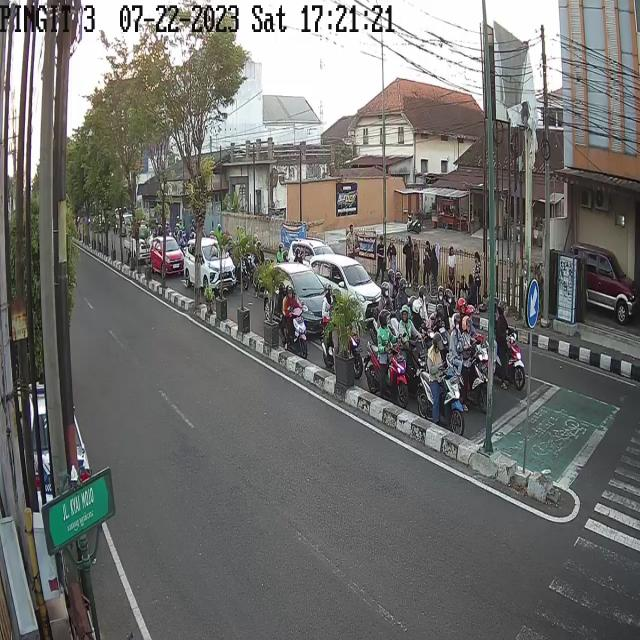car: (263, 264, 327, 342), (575, 244, 637, 324), (306, 256, 384, 309), (183, 240, 237, 300), (286, 233, 338, 277), (149, 237, 183, 276)
motorcycle: (420, 336, 464, 442), (368, 305, 410, 407), (318, 284, 359, 382), (450, 314, 487, 404), (492, 301, 525, 398), (279, 283, 308, 359)
truck: (124, 220, 152, 270)
